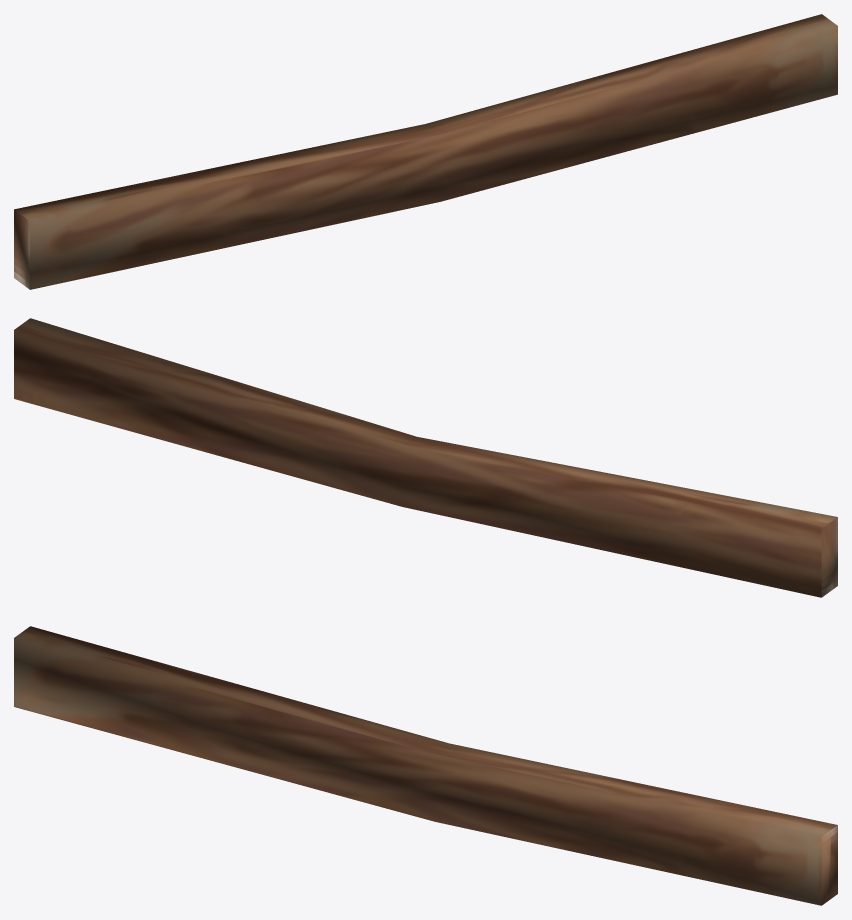
File: SM_Fence_Piket_02.fbx
3 renders of one model, top to bottom at view 1: azimuth 30°, elevation 25°; view 2: azimuth 150°, elevation 25°; view 3: azimuth 330°, elevation 25°, orthographic.
Visible parts, largest first — view 1: picket 2; view 2: picket 2; view 3: picket 2.
Boxes of the visible parts, x1,y1,x2,y2 form: picket 2: (14,14,837,289); picket 2: (14,318,837,597); picket 2: (14,626,837,905).
Size of the model in its own units: 228 by 22.96 by 10.26.
1 material, 1 textured.
